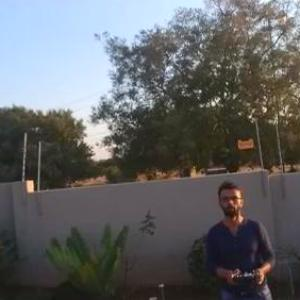follow: (204, 178, 283, 299)
